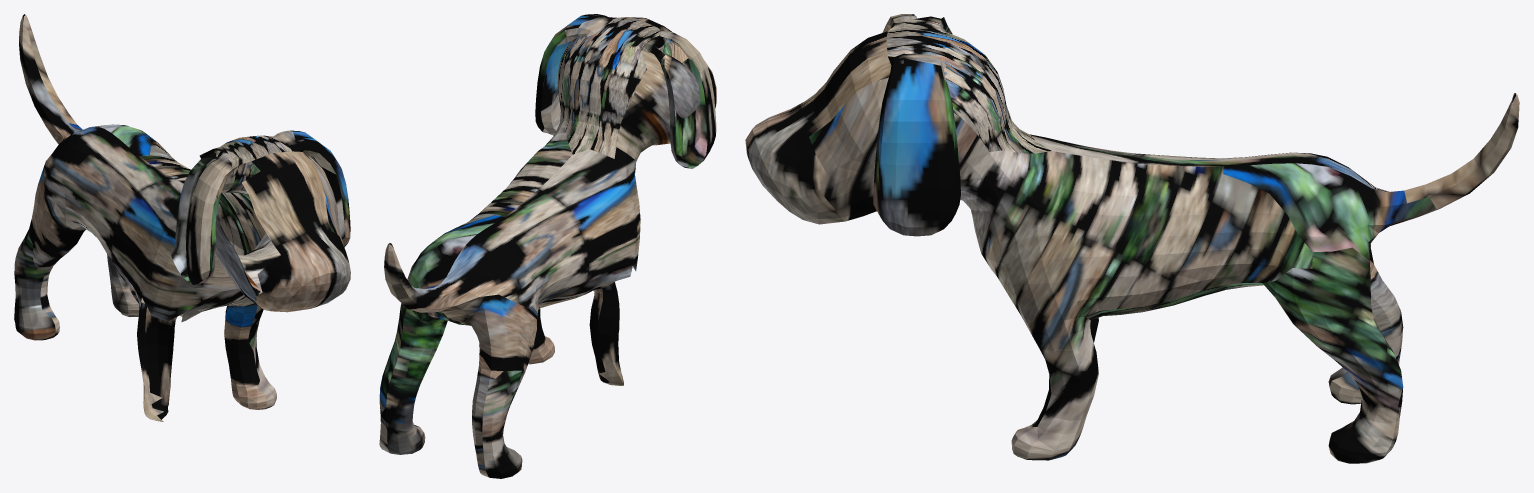
3 views of the same model, side by side, from view 1: azimuth 30°, elevation 25°; view 2: azimuth 150°, elevation 25°; view 3: azimuth 270°, elevation 25° (orthographic). The views are drawn at different scales.
Bounding box in the file's own units: 0.3031 × 0.6138 × 1.
1 material, 1 textured.
